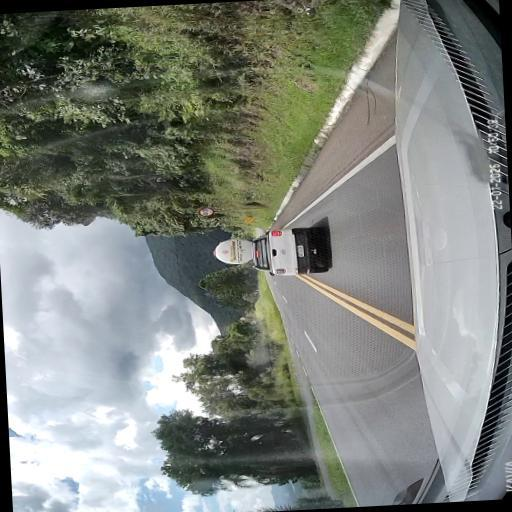R-19: (198, 206, 214, 216)
